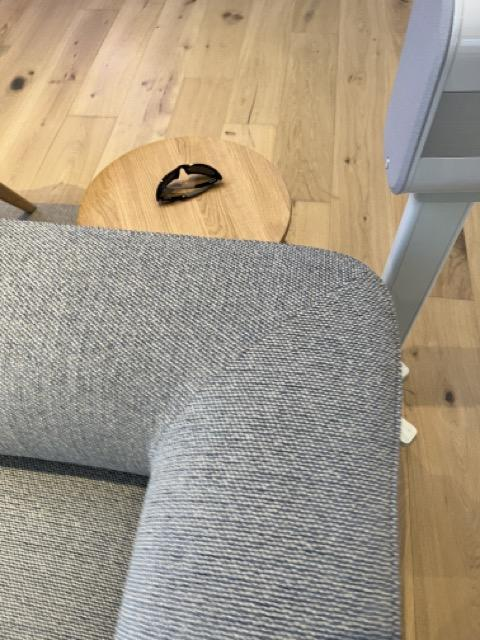Sunglasses: (154, 160, 227, 207)
